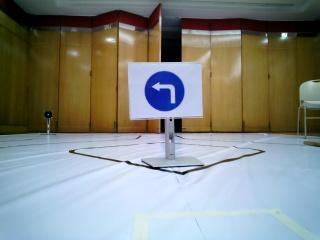left: (134, 63, 191, 116)
